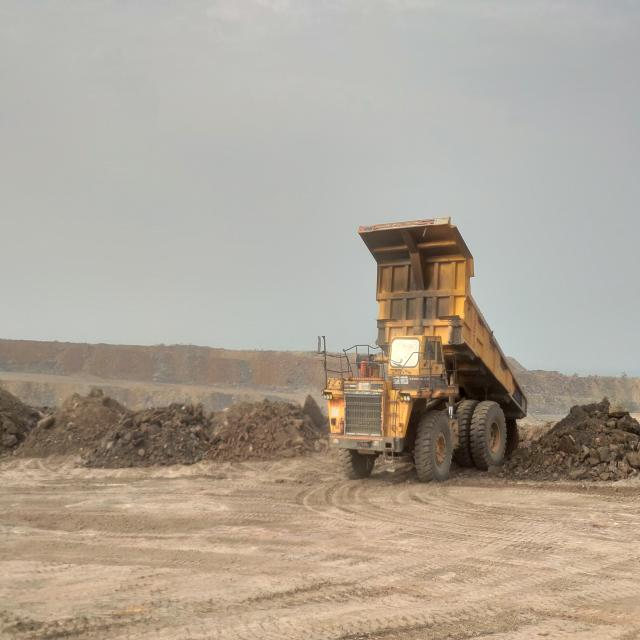dump_truck: (322, 218, 528, 482)
